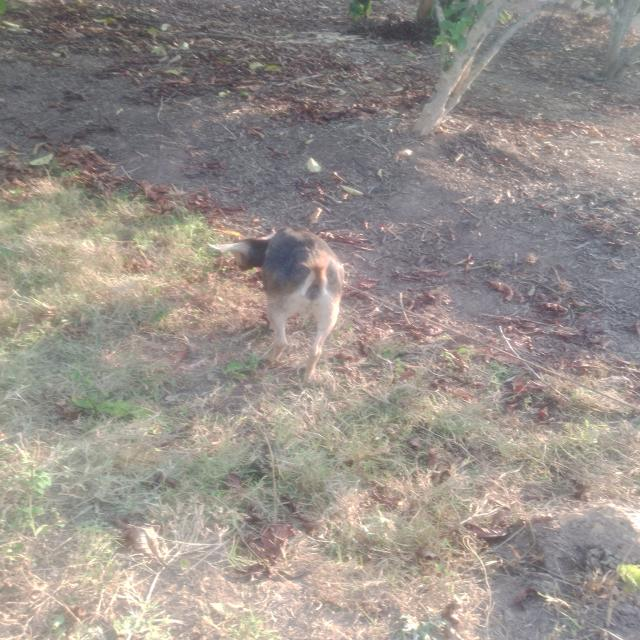goat: (173, 207, 388, 394)
